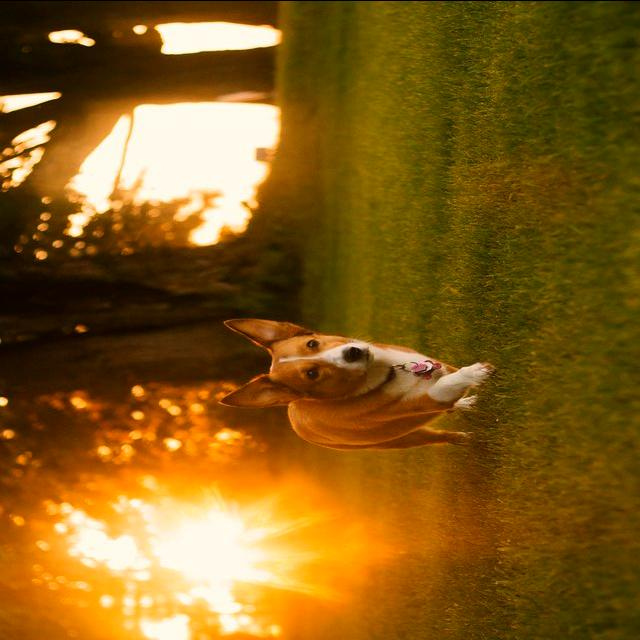corgi: (217, 315, 496, 451)
